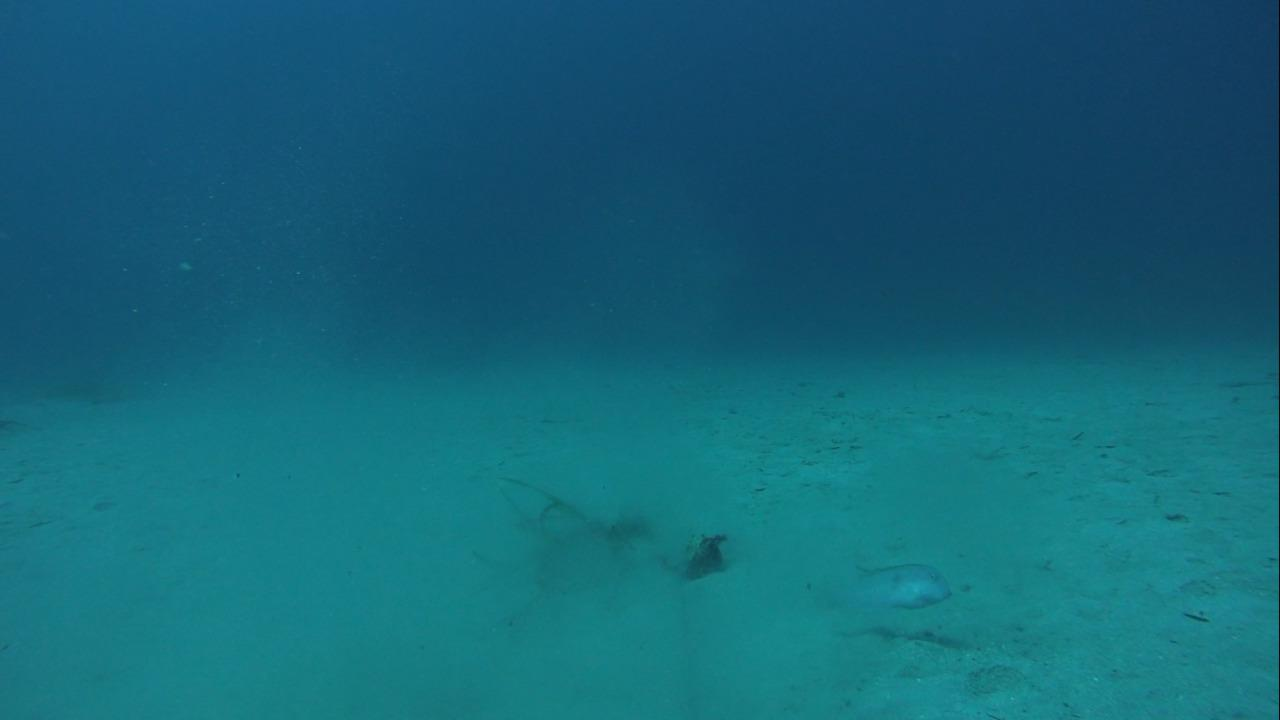raor: (833, 553, 949, 610)
